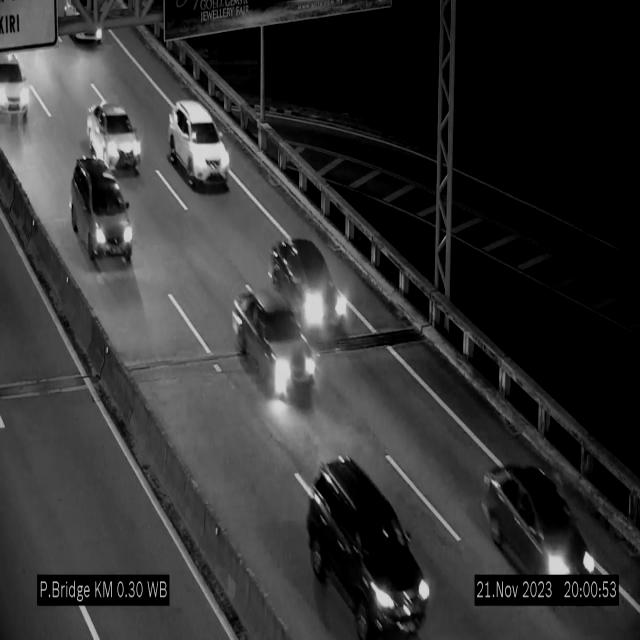Car: (308, 458, 432, 638), (481, 464, 594, 577), (228, 280, 316, 408), (270, 235, 348, 344), (71, 153, 133, 268), (168, 100, 230, 190), (88, 102, 142, 174), (0, 47, 36, 118)
